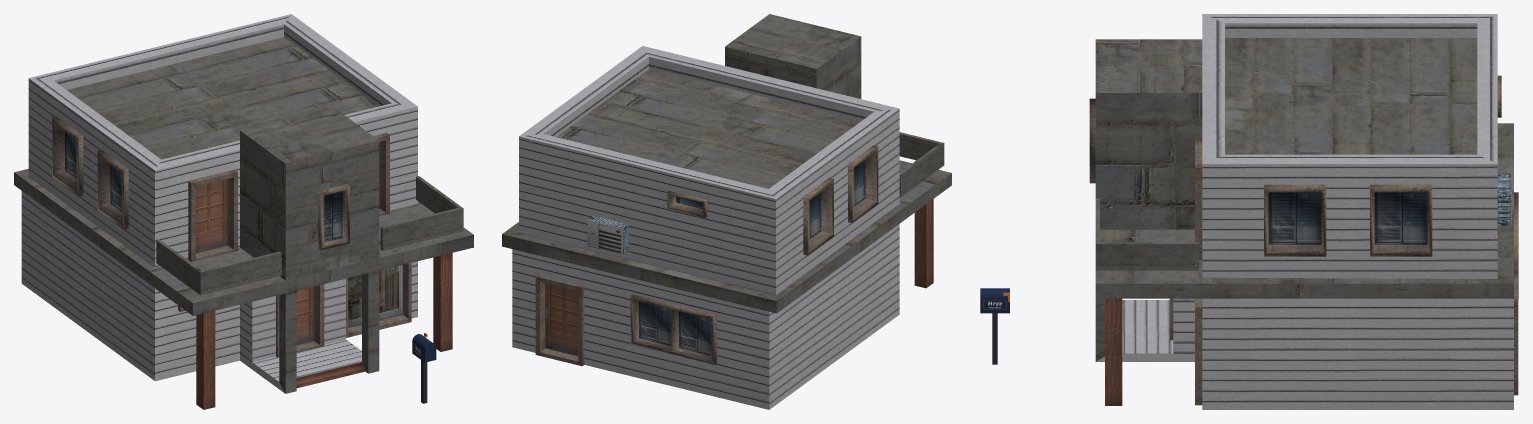
File: casa5-c.glb
The picture shows the model from 3 angles, left to right: view 1: azimuth 30°, elevation 25°; view 2: azimuth 150°, elevation 25°; view 3: azimuth 270°, elevation 25°; orthographic projection. The views are drawn at different scales.
Visible parts, largest first — view 1: Casa, CaixaCorreio; view 2: Casa; view 3: Casa, CaixaCorreio.
Boxes of the visible parts, left/top/right/bottom form: Casa: left=14, top=14, right=473, bottom=409; CaixaCorreio: left=412, top=333, right=436, bottom=403; Casa: left=502, top=14, right=951, bottom=409; Casa: left=1089, top=14, right=1518, bottom=409; CaixaCorreio: left=980, top=288, right=1009, bottom=364.
Size of the model in its own units: 6.4 by 5.03 by 9.1.
Materials: 5 (2 with a texture image).
